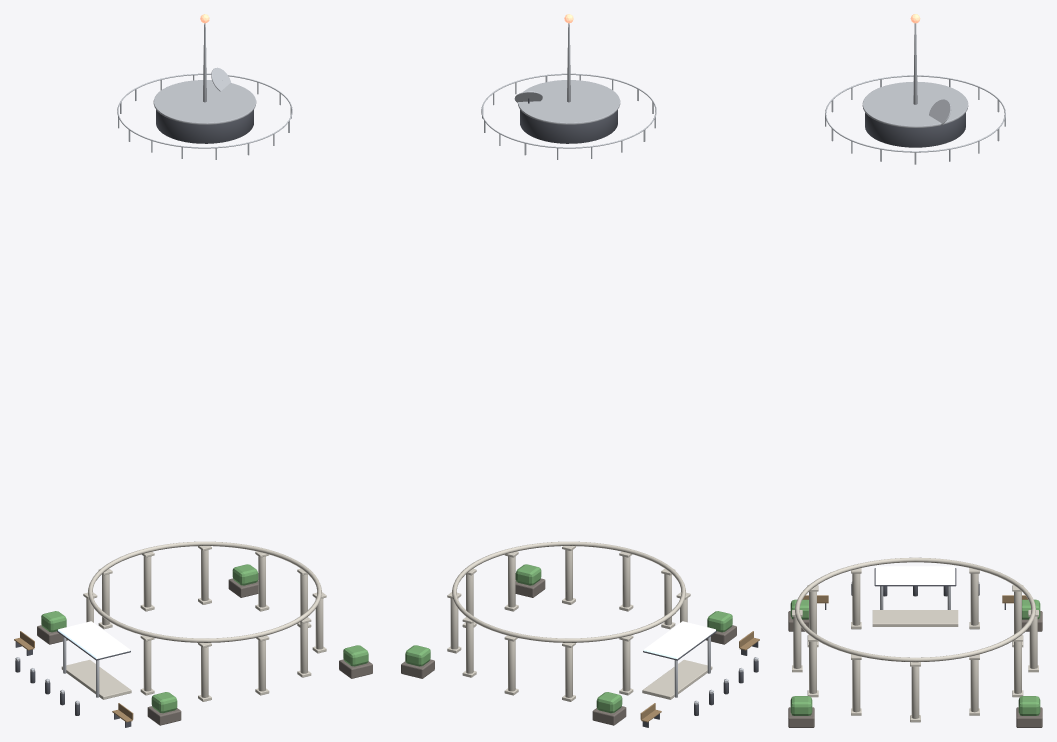
File: essex_detail.glb
3 renders of one model, left to right at view 1: azimuth 30°, elevation 25°; view 2: azimuth 150°, elevation 25°; view 3: azimuth 270°, elevation 25°, orthographic. The views are drawn at different scales.
Visible parts, largest first — view 1: ex_penthouse_cap, ex_ringbeam, ex_penthouse, ex_canopy, ex_step, ex_rail; view 2: ex_penthouse_cap, ex_ringbeam, ex_penthouse, ex_canopy, ex_step, ex_rail; view 3: ex_penthouse_cap, ex_ringbeam, ex_penthouse, ex_canopy, ex_step, ex_rail, ex_col_0, ex_col_5, ex_col_7, ex_col_1, ex_col_11, ex_shrub_0 (+5 smaller).
Boxes of the visible parts, <box> form: ex_penthouse_cap: <box>153,80,256,124</box>; ex_ringbeam: <box>88,541,321,642</box>; ex_penthouse: <box>156,110,253,143</box>; ex_canopy: <box>58,621,129,658</box>; ex_step: <box>61,659,131,699</box>; ex_rail: <box>117,73,292,148</box>; ex_penthouse_cap: <box>517,80,620,124</box>; ex_ringbeam: <box>452,541,685,642</box>; ex_penthouse: <box>520,110,617,143</box>; ex_canopy: <box>644,621,715,658</box>; ex_step: <box>642,659,712,699</box>; ex_rail: <box>481,73,656,148</box>; ex_penthouse_cap: <box>862,81,968,127</box>; ex_ringbeam: <box>795,557,1035,662</box>; ex_penthouse: <box>865,113,965,147</box>; ex_canopy: <box>875,566,955,584</box>; ex_step: <box>872,610,958,626</box>; ex_rail: <box>825,75,1005,152</box>; ex_col_0: <box>911,666,919,718</box>; ex_col_5: <box>970,573,978,625</box>; ex_col_7: <box>852,573,860,625</box>; ex_col_1: <box>970,660,978,712</box>; ex_col_11: <box>852,660,860,712</box>; ex_shrub_0: <box>1018,696,1040,715</box>.
Bounding box in the file's own units: 20.64 × 47.47 × 16.55.
